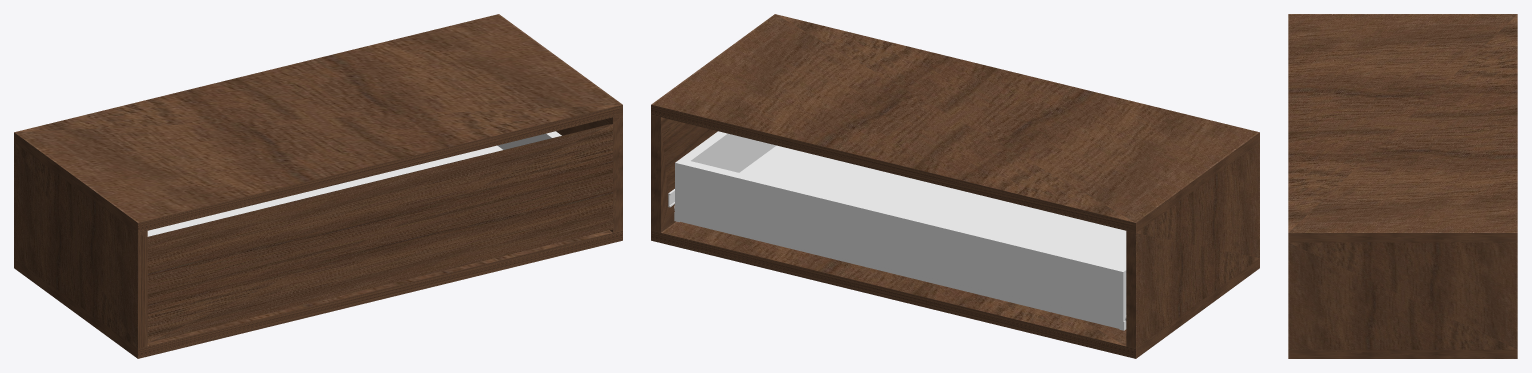
Rendered from anothernewnewcomp.fbx.
3 views of the same model, side by side, from view 1: azimuth 30°, elevation 25°; view 2: azimuth 150°, elevation 25°; view 3: azimuth 270°, elevation 25° (orthographic). The views are drawn at different scales.
Parts seen in each view (by area): view 1: SketchUp.002, SketchUp.003; view 2: SketchUp.002, SketchUp.003; view 3: SketchUp.002.
Part boxes in pixels (<box>): SketchUp.002: <box>14,14,622,358</box>; SketchUp.003: <box>147,131,561,236</box>; SketchUp.002: <box>651,14,1259,358</box>; SketchUp.003: <box>674,131,1126,330</box>; SketchUp.002: <box>1288,14,1517,358</box>.
Bounding box in the file's own units: 74.61 × 20 × 33.02.
